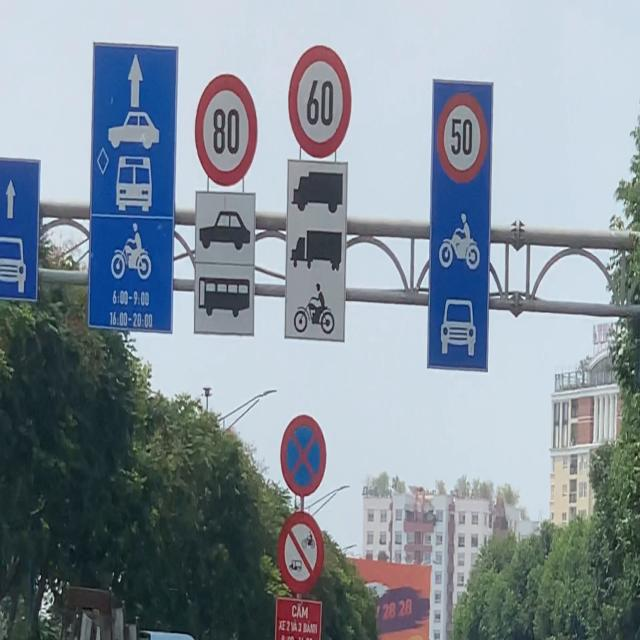Cam con lai: (276, 509, 324, 596)
Cam dung va do: (278, 411, 329, 500)
Toc do toi da: (194, 69, 262, 185), (290, 39, 354, 160), (437, 89, 487, 183)
